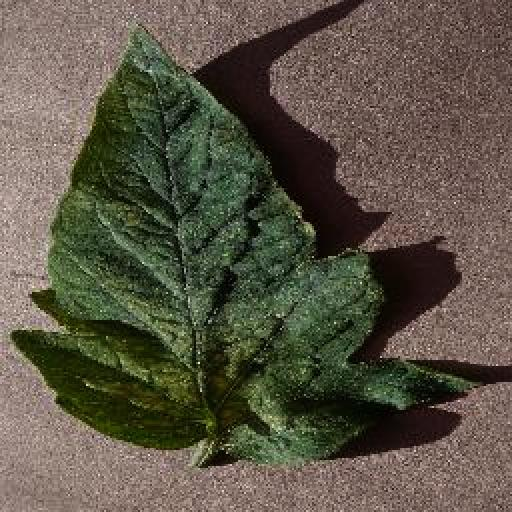disease_tomato: (12, 18, 482, 468)
